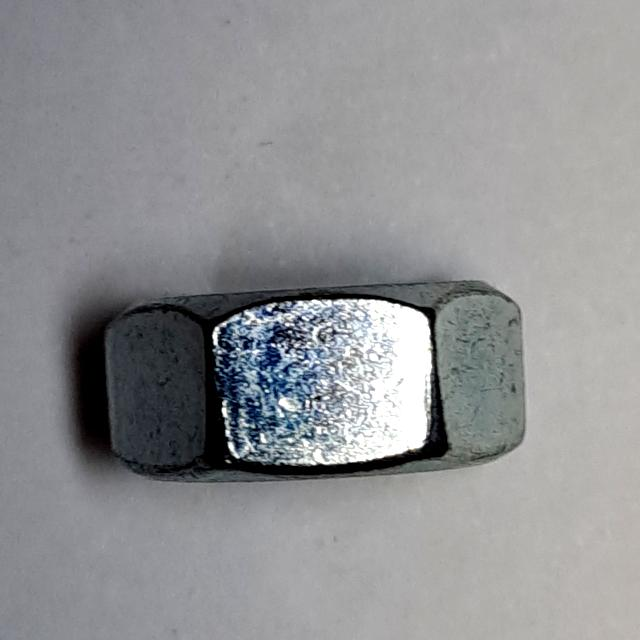Side_Excellent: (94, 267, 539, 509)
